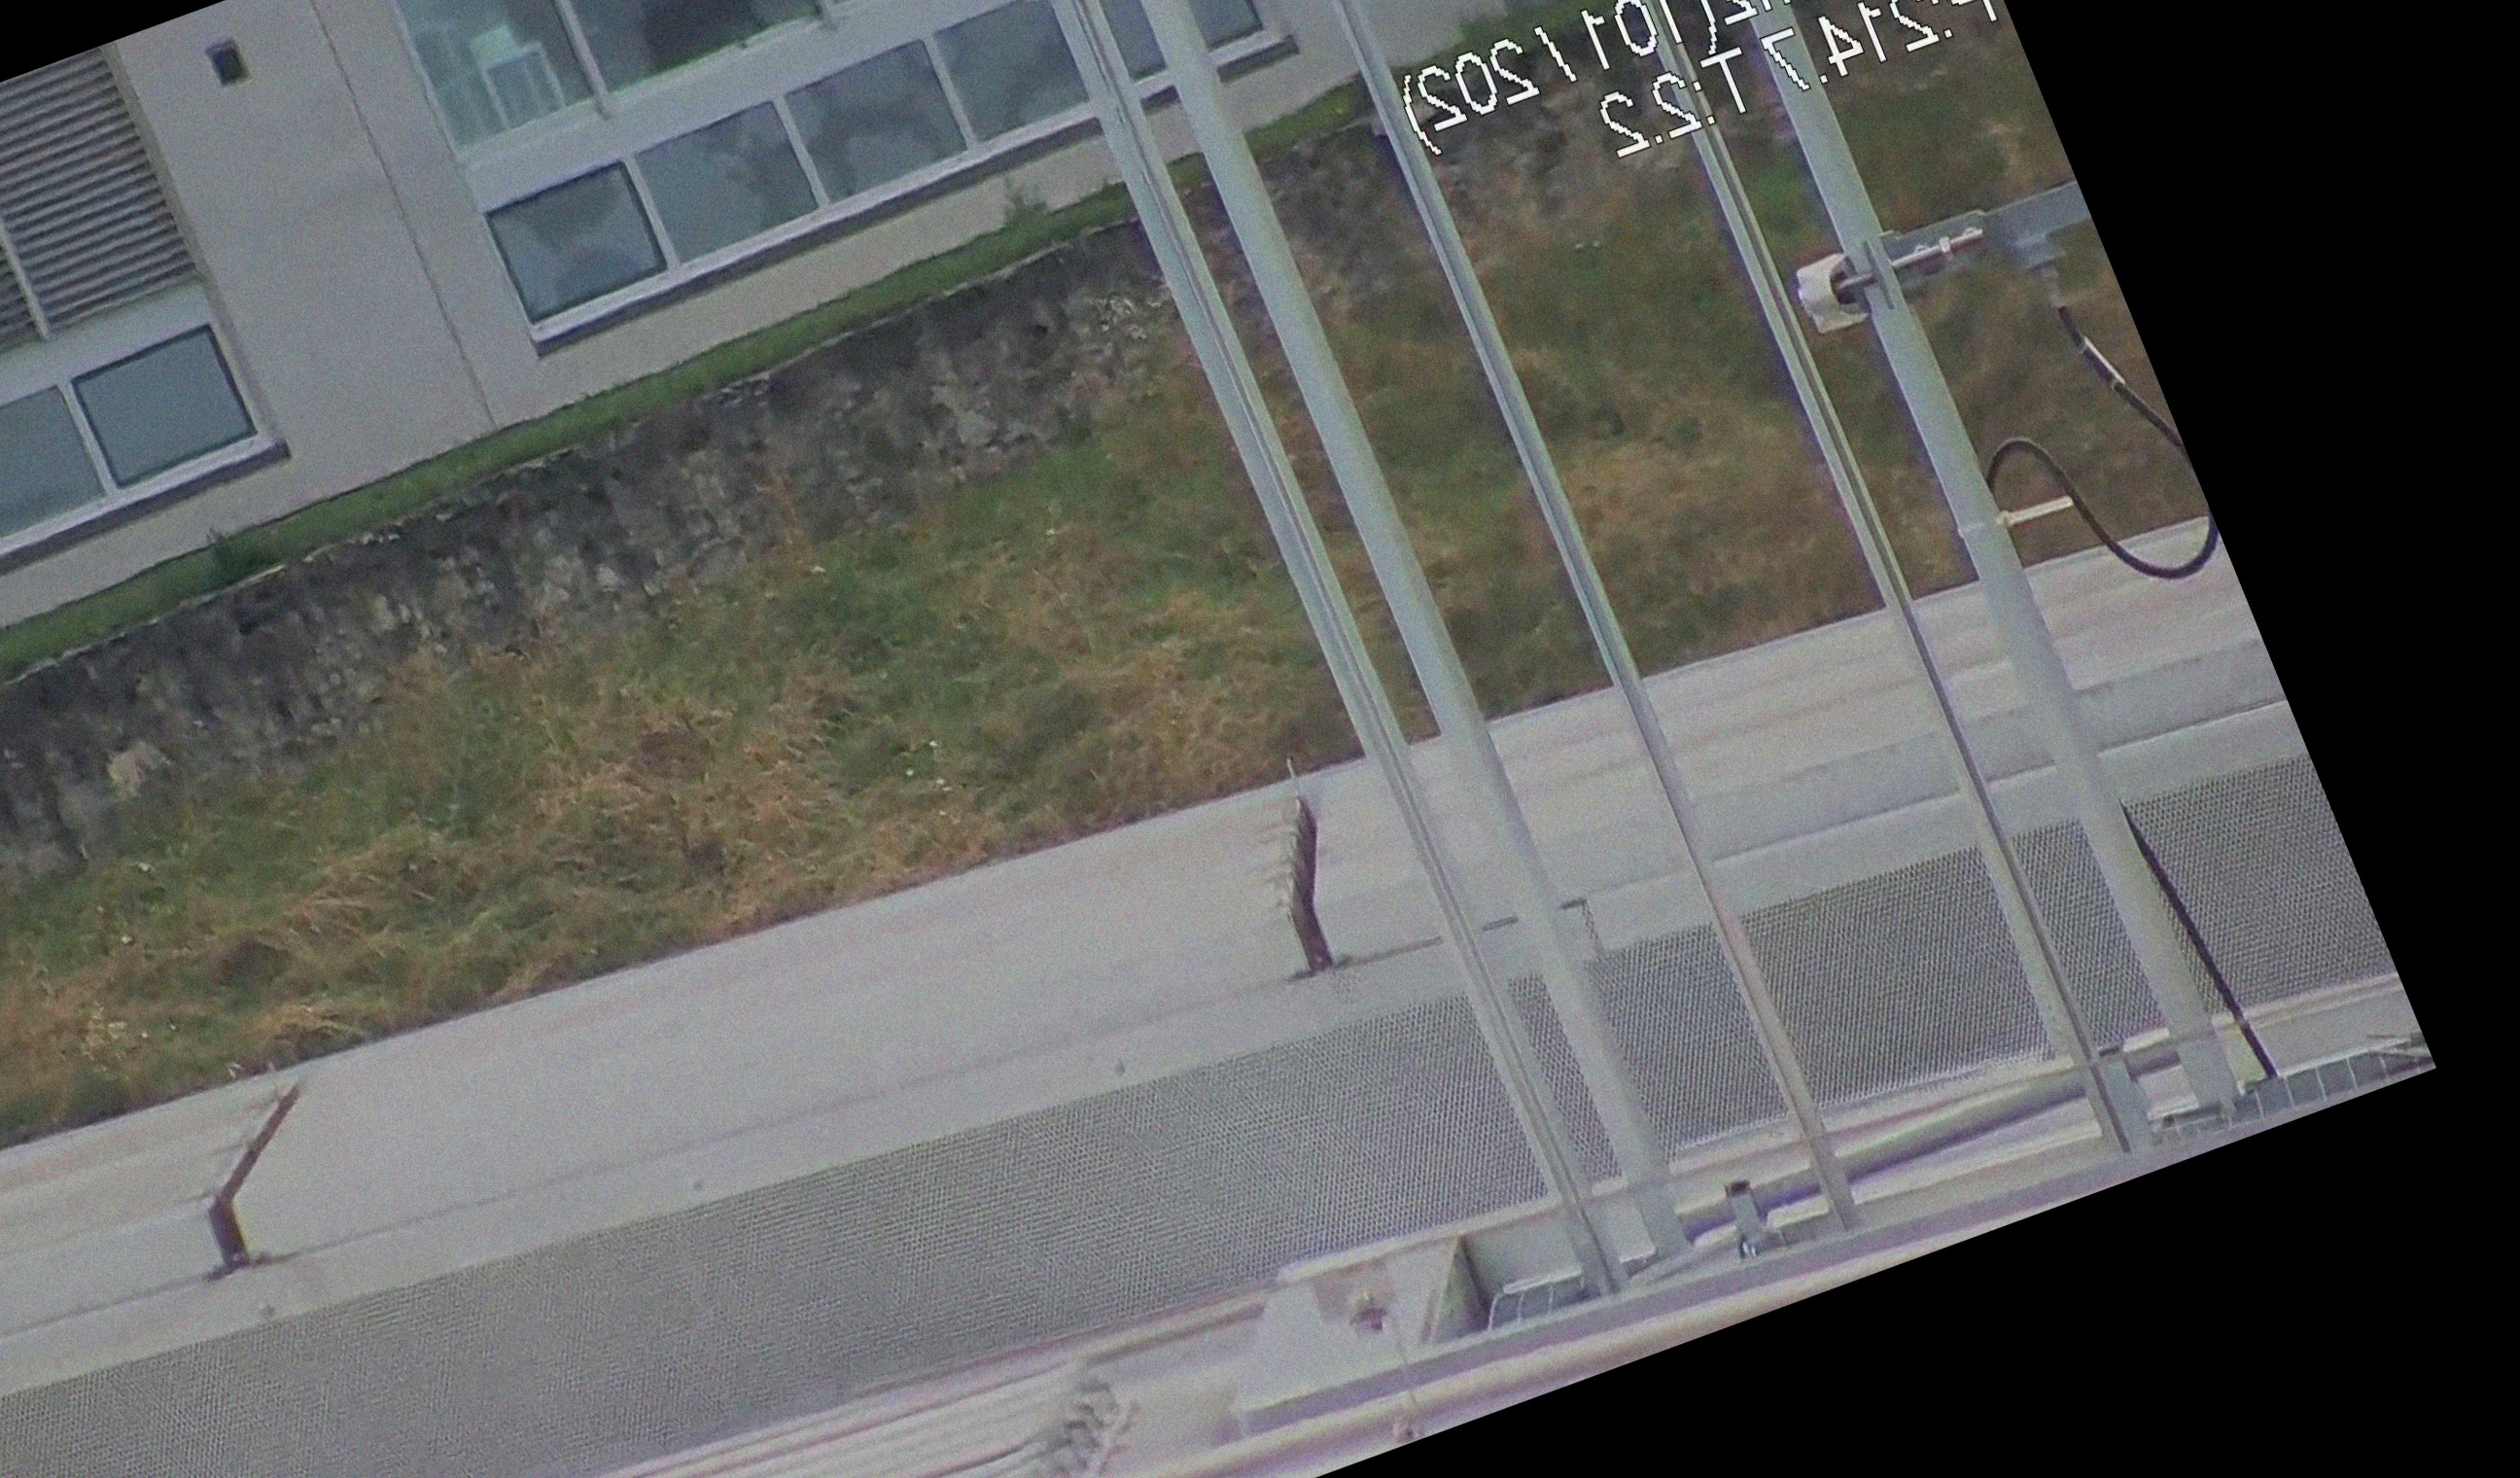Other: (1208, 743, 1405, 994)
